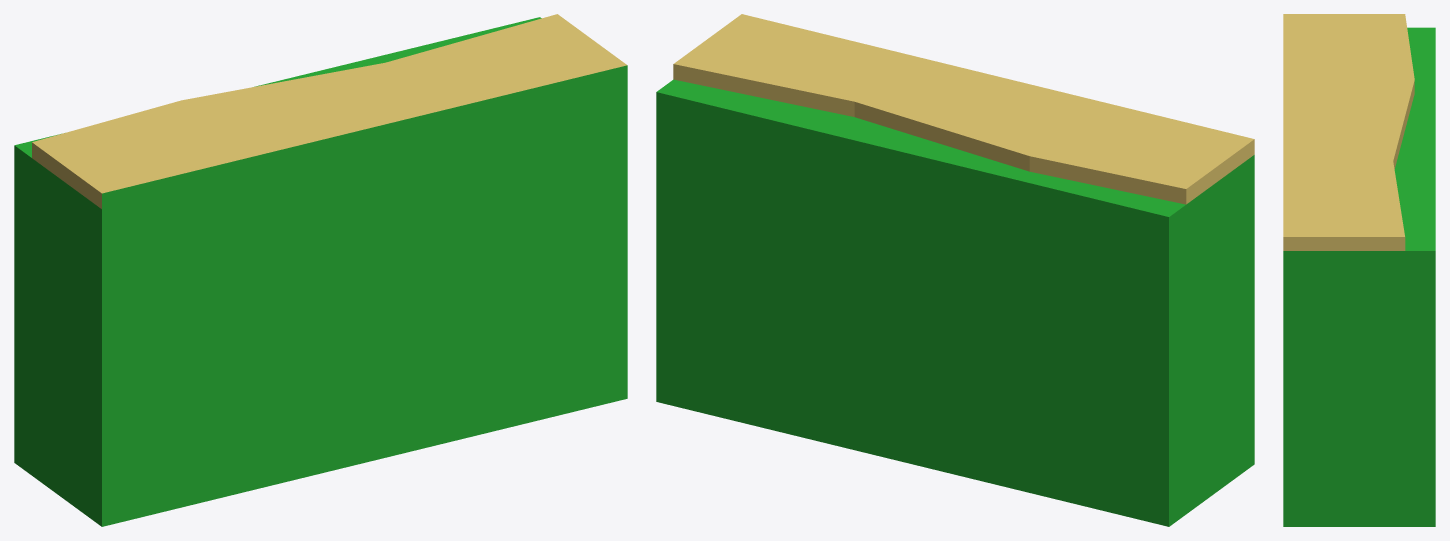
File: module-edge_land_path_001.glb
The picture shows the model from 3 angles, left to right: view 1: azimuth 30°, elevation 25°; view 2: azimuth 150°, elevation 25°; view 3: azimuth 270°, elevation 25°; orthographic projection. The views are drawn at different scales.
Parts seen in each view (by area): view 1: module-edge_land_path_001; view 2: module-edge_land_path_001; view 3: module-edge_land_path_001.
Part boxes in pixels (<box>): module-edge_land_path_001: <box>14,14,627,526</box>; module-edge_land_path_001: <box>656,14,1254,526</box>; module-edge_land_path_001: <box>1283,14,1435,526</box>.
Size of the model in its own units: 0.866 by 0.525 by 0.25.
